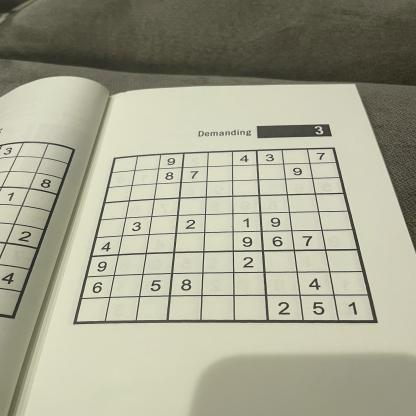sudoku: (68, 141, 380, 327)
